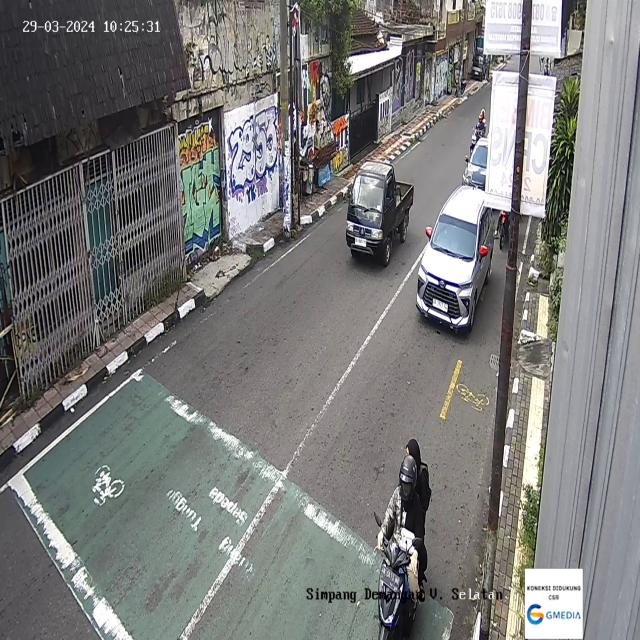car: (416, 183, 494, 334), (462, 137, 488, 190)
motorcycle: (374, 438, 432, 639)
truck: (345, 162, 414, 268)
